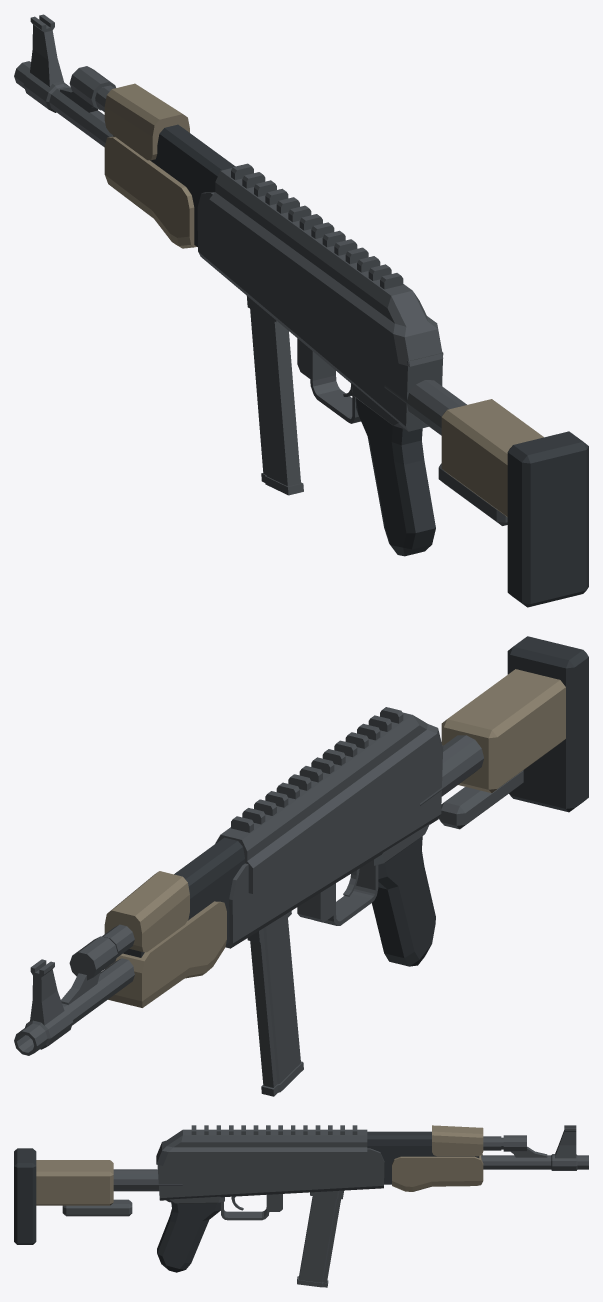
File: assault_rifle.glb
3 views of the same model, one above another, from view 1: azimuth 30°, elevation 25°; view 2: azimuth 150°, elevation 25°; view 3: azimuth 270°, elevation 25° (orthographic). The views are drawn at different scales.
Visible parts, largest first — view 1: AssaultRifleModel; view 2: AssaultRifleModel; view 3: AssaultRifleModel.
Part boxes in pixels (x1=…): AssaultRifleModel: x1=14, y1=14, x2=588, y2=607; AssaultRifleModel: x1=14, y1=636, x2=588, y2=1096; AssaultRifleModel: x1=14, y1=1125, x2=588, y2=1287.
Bounding box in the file's own units: 0.064 × 0.2687 × 0.88.
